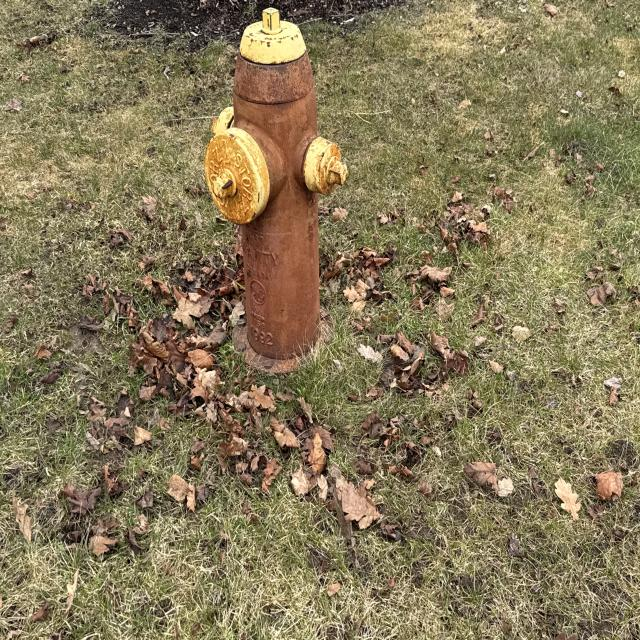Fire hydrant: (201, 7, 349, 386)
